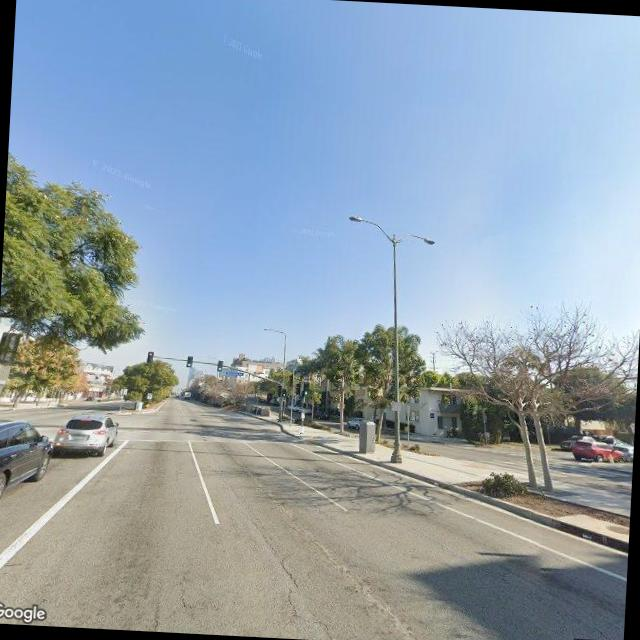pothole: (224, 486, 317, 624)
